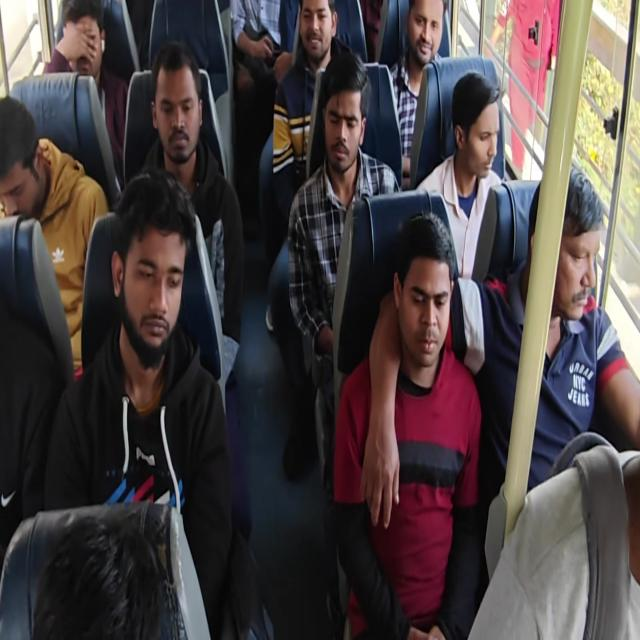person: (1, 0, 638, 638), (368, 160, 640, 581), (44, 168, 235, 638), (286, 50, 402, 633), (332, 211, 482, 638), (265, 1, 356, 480), (140, 39, 244, 415), (0, 94, 109, 378), (31, 501, 189, 638), (415, 70, 505, 284), (271, 0, 354, 224), (41, 0, 128, 185), (230, 0, 298, 231), (490, 0, 560, 179), (388, 0, 444, 181), (230, 0, 299, 86)
